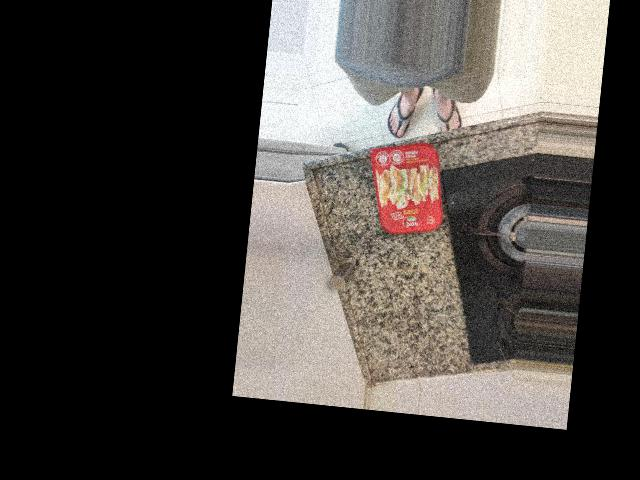cheese: (365, 217, 456, 339)
